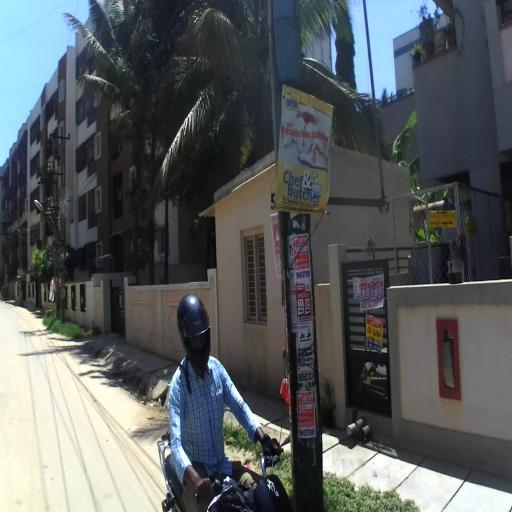street_light_0: (34, 200, 60, 236)
